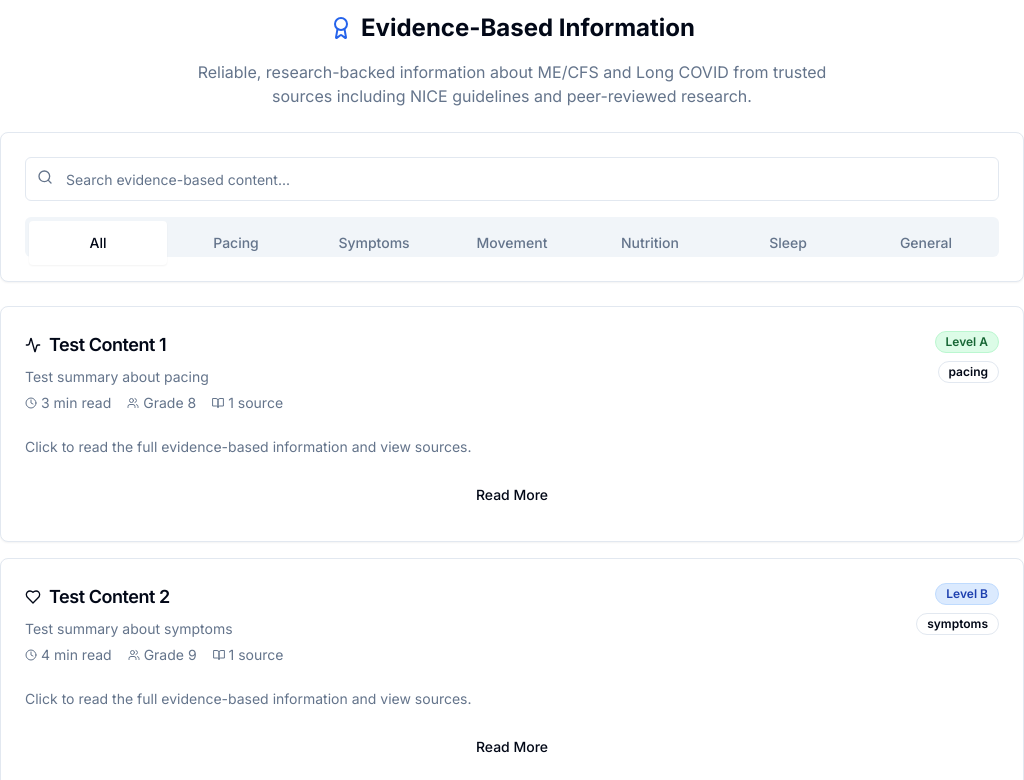
Test: EvidenceBasedContent › searches content
Type "pacing" into the field with placeholder "Search evidence-based content..." at (512,179), box left=25, top=157, right=999, bottom=201
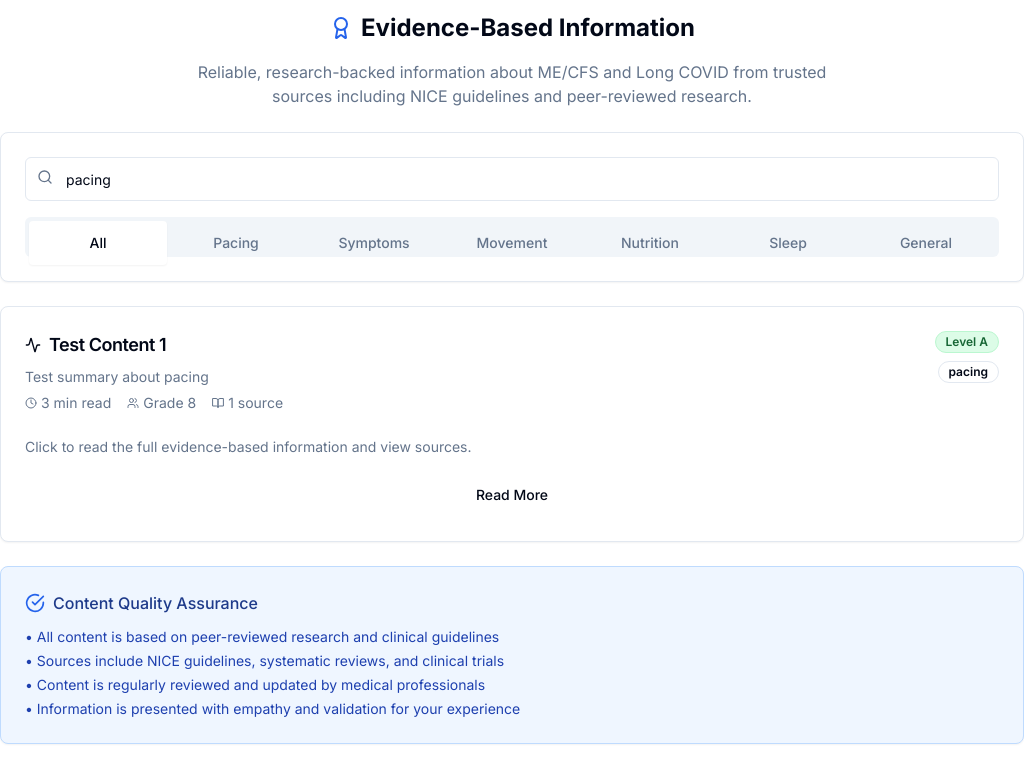
Expected: the heading "Test Content 1" is shown, left=25, top=334, right=166, bottom=355
Result: the heading "Test Content 2" is gone
